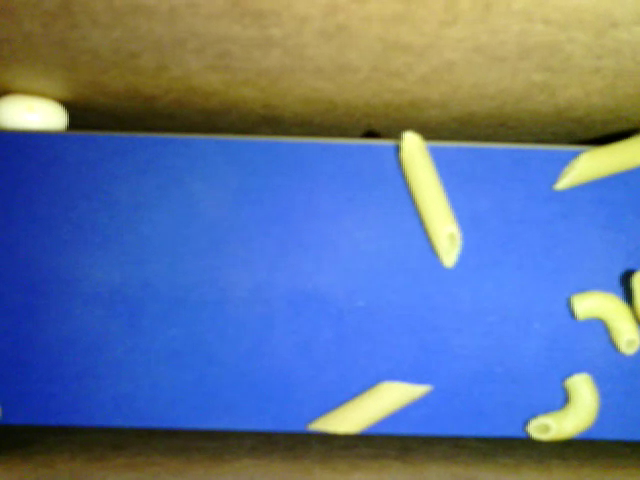elbow: (525, 370, 601, 441), (570, 287, 638, 356)
penne: (399, 129, 461, 269), (306, 379, 433, 434), (553, 133, 639, 190)
